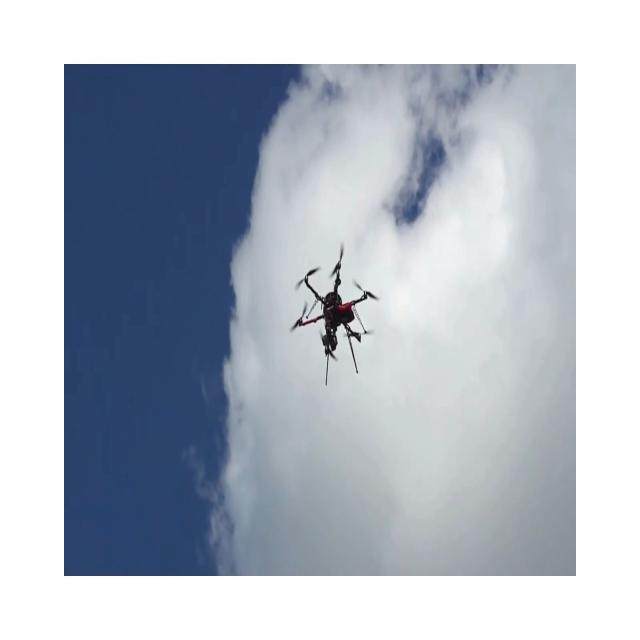drone: (290, 242, 380, 385)
